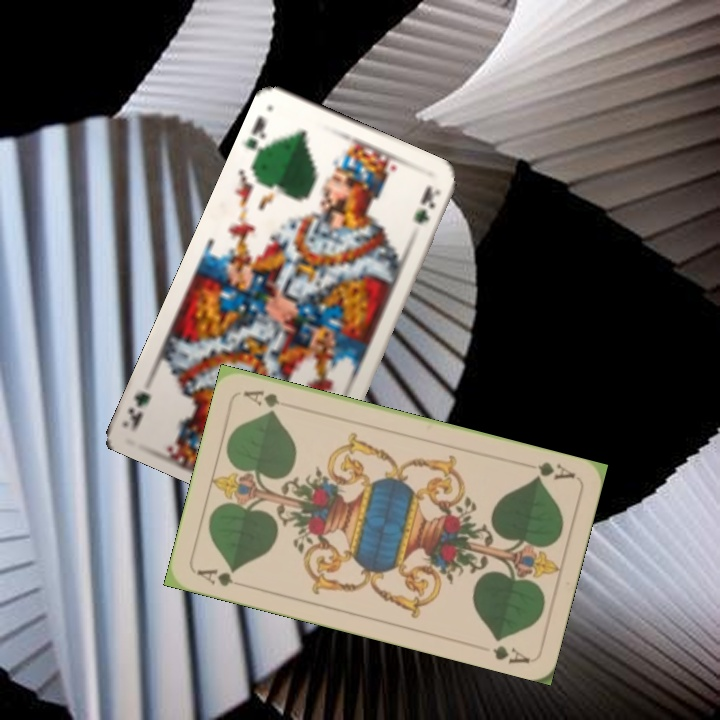GA: (531, 457, 578, 482), (192, 565, 238, 589)
GK: (241, 111, 270, 167)
